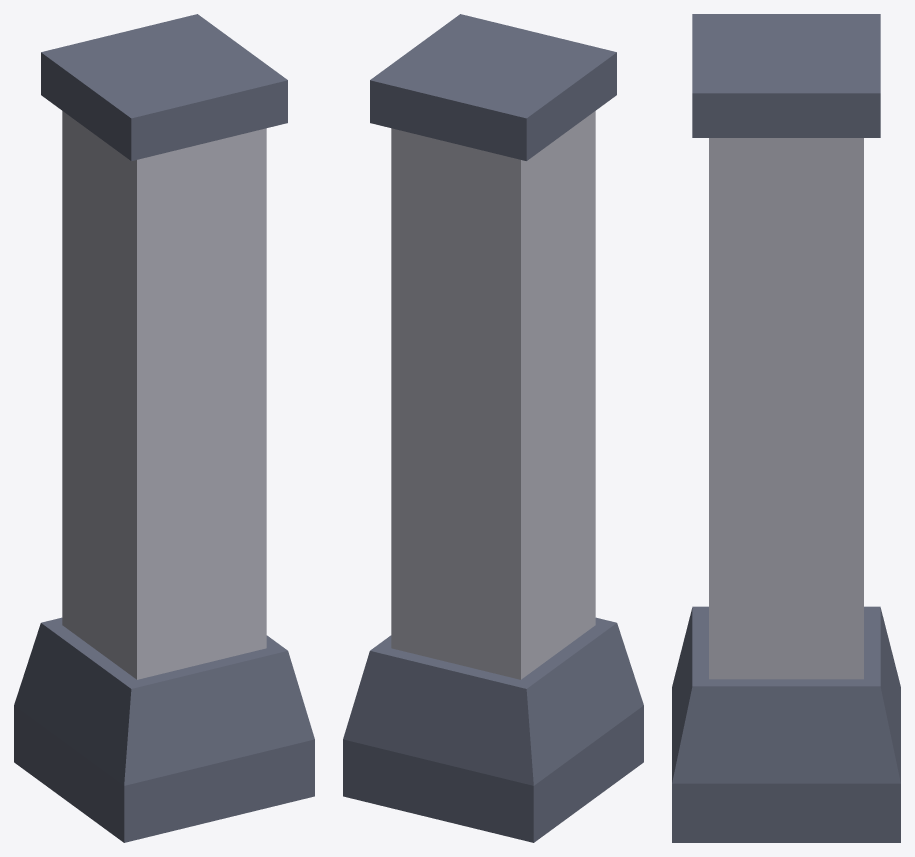
The model's file is Bridge Pillar Wide.glb.
3 views of the same model, side by side, from view 1: azimuth 30°, elevation 25°; view 2: azimuth 150°, elevation 25°; view 3: azimuth 270°, elevation 25° (orthographic). The views are drawn at different scales.
Parts seen in each view (by area): view 1: bridge_pillarWide; view 2: bridge_pillarWide; view 3: bridge_pillarWide.
Boxes of the visible parts, left/top/right/bottom form: bridge_pillarWide: left=14, top=14, right=314, bottom=842; bridge_pillarWide: left=343, top=14, right=643, bottom=842; bridge_pillarWide: left=672, top=14, right=900, bottom=842.
Bounding box in the file's own units: 0.14 × 0.5 × 0.14.
